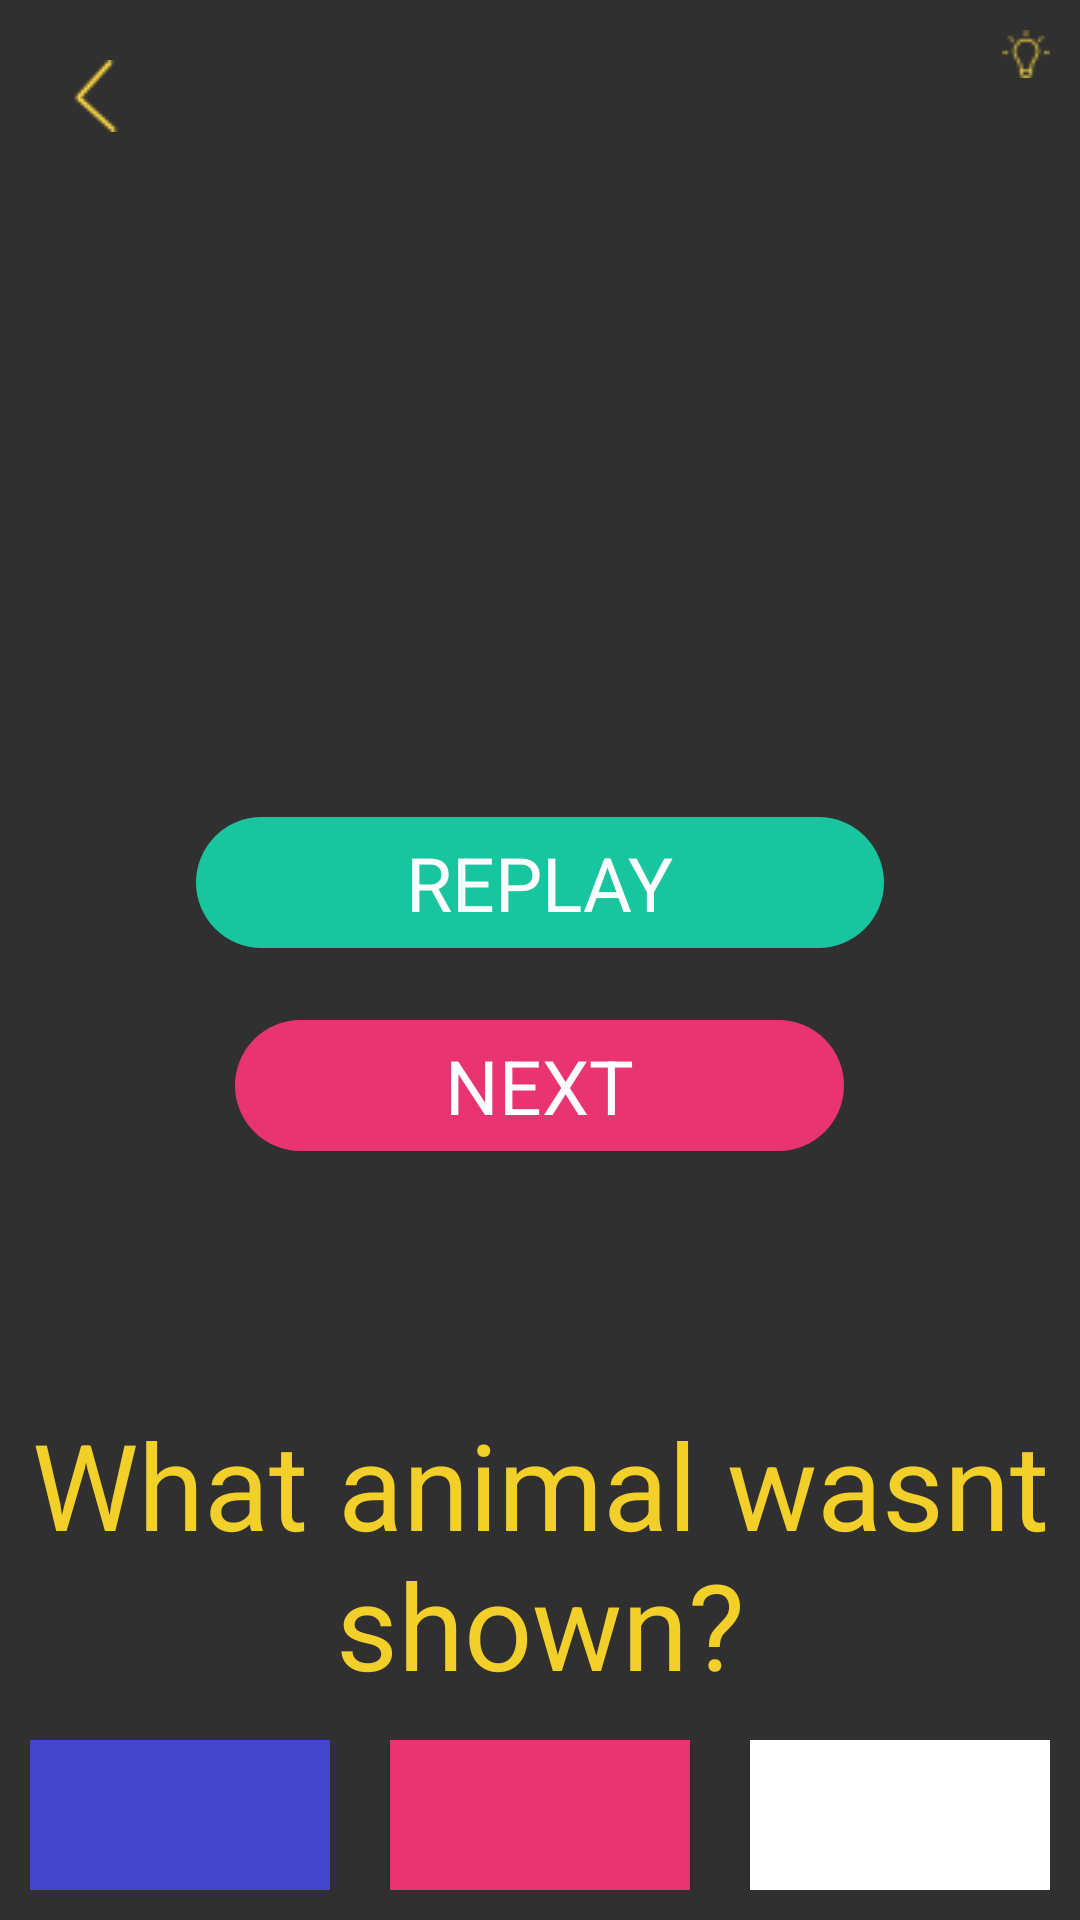

Icons on this 1080x1920 Android screen, each with its box as (x1, y1, x2, y2):
arrow: (74, 60, 117, 132)
lightbulb: (1002, 30, 1050, 78)
